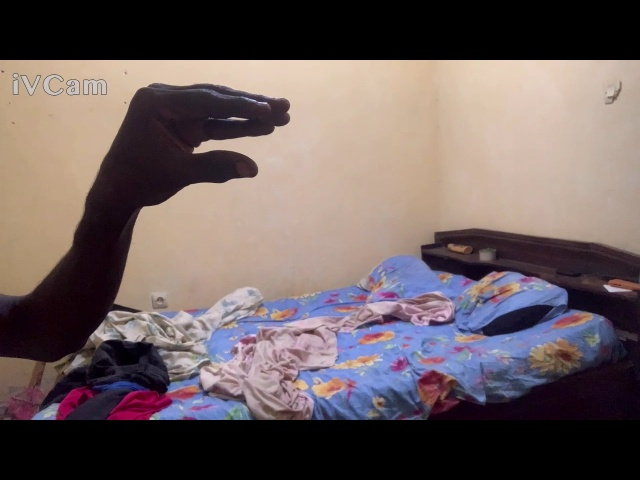non: (121, 78, 308, 210)
